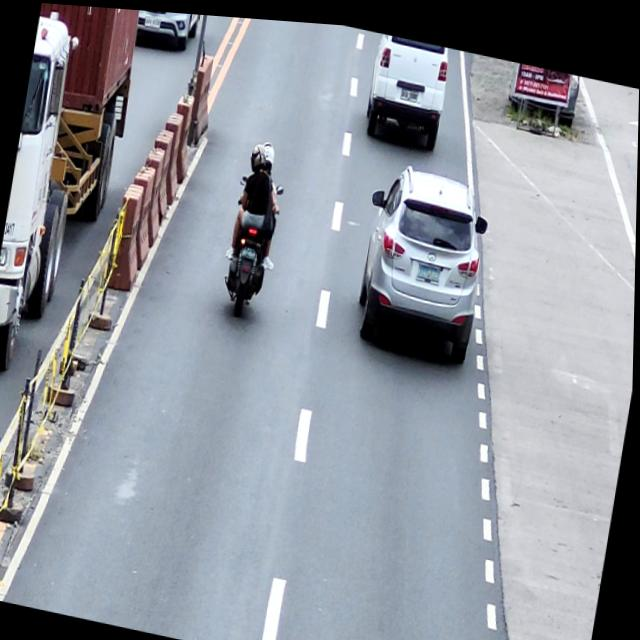Car: (350, 151, 497, 366), (362, 27, 452, 146), (132, 8, 202, 52)
License-Plate: (417, 257, 442, 277), (399, 83, 419, 98), (241, 242, 257, 257), (145, 13, 162, 27)
Motorcycle: (220, 168, 286, 321)
Truck: (0, 0, 147, 395)
